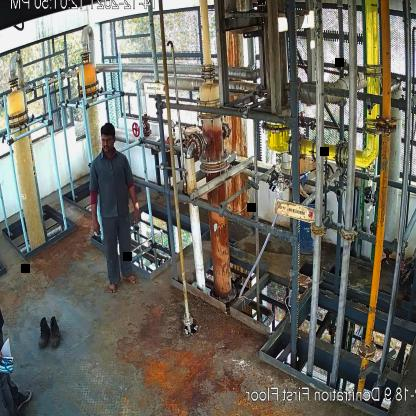no_shoes: (122, 274, 140, 284), (108, 282, 119, 296)
shoes: (46, 315, 62, 349), (37, 318, 49, 348)
